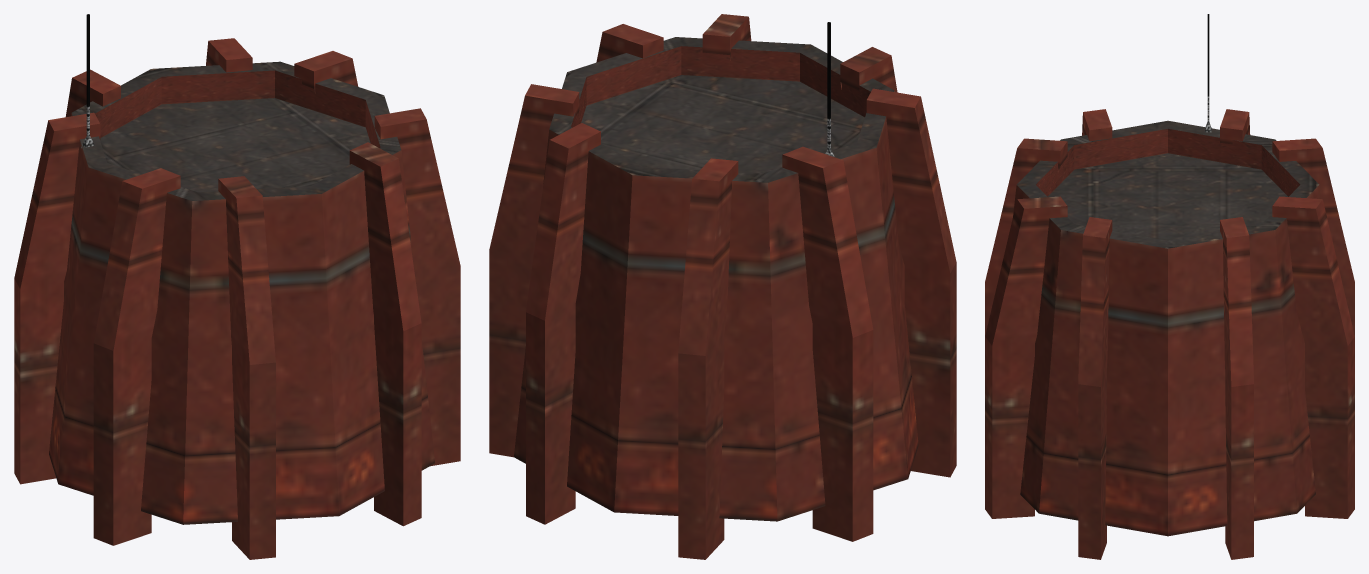
Rendered from auto_defense_tower.dae.
The picture shows the model from 3 angles, left to right: view 1: azimuth 30°, elevation 25°; view 2: azimuth 150°, elevation 25°; view 3: azimuth 270°, elevation 25°; orthographic projection. The views are drawn at different scales.
Parts seen in each view (by area): view 1: auto_tower; view 2: auto_tower; view 3: auto_tower.
Part boxes in pixels (x1,y1,x2,y2): auto_tower: (14, 14, 460, 559); auto_tower: (489, 14, 956, 559); auto_tower: (985, 14, 1354, 559).
Size of the model in its own units: 13.21 by 13.21 by 16.29.
